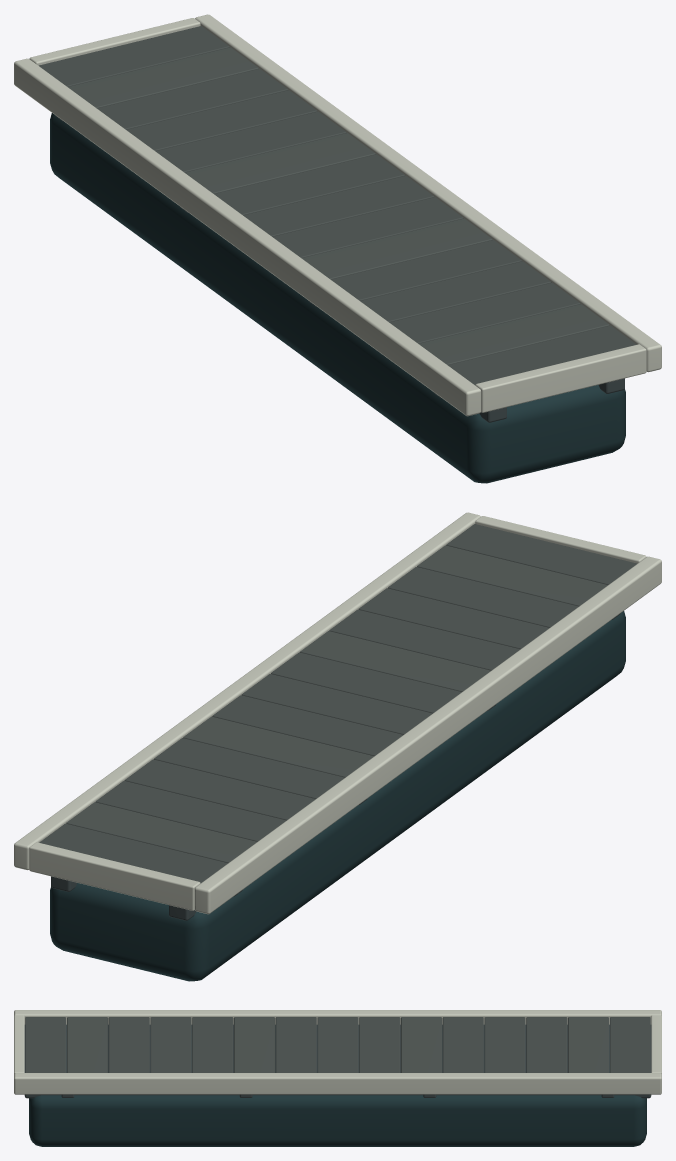
Rendered from city_marina_docks_02.glb.
3 renders of one model, top to bottom at view 1: azimuth 30°, elevation 25°; view 2: azimuth 150°, elevation 25°; view 3: azimuth 270°, elevation 25°, orthographic. The views are drawn at different scales.
Visible parts, largest first — view 1: CityMarinaDocks02_Mesh; view 2: CityMarinaDocks02_Mesh; view 3: CityMarinaDocks02_Mesh.
Part boxes in pixels (left/top/right/bottom): CityMarinaDocks02_Mesh: left=14, top=14, right=661, bottom=483; CityMarinaDocks02_Mesh: left=14, top=512, right=661, bottom=981; CityMarinaDocks02_Mesh: left=14, top=1010, right=661, bottom=1146.
Bounding box in the file's own units: 1.5 × 0.82 × 6.
